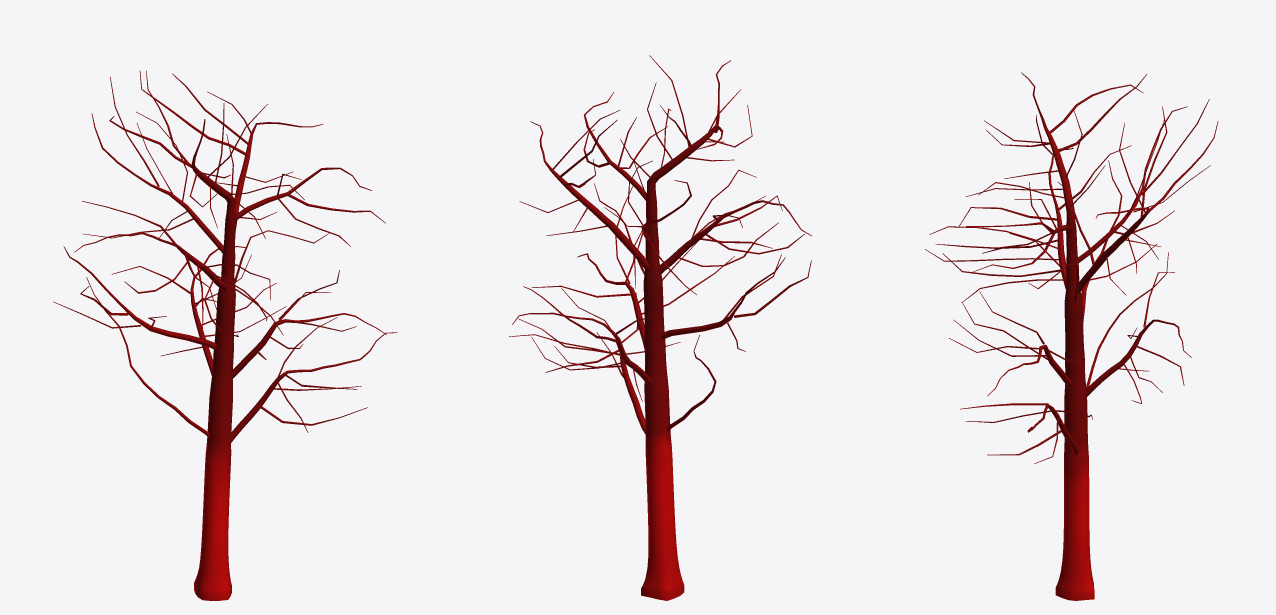
File: oak_b_lod0.glb
3 views of the same model, side by side, from view 1: azimuth 30°, elevation 25°; view 2: azimuth 150°, elevation 25°; view 3: azimuth 270°, elevation 25° (orthographic). The views are drawn at different scales.
Parts seen in each view (by area): view 1: oak_b_LOD0; view 2: oak_b_LOD0; view 3: oak_b_LOD0.
Boxes of the visible parts, box(x1,y1,x2,y2) form: oak_b_LOD0: box(53, 70, 397, 600); oak_b_LOD0: box(509, 55, 811, 600); oak_b_LOD0: box(925, 72, 1218, 600).
Bounding box in the file's own units: 13 × 18.86 × 11.63.
